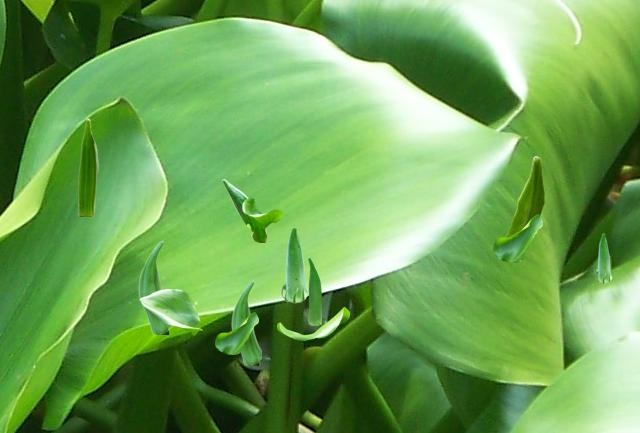okra: (505, 156, 543, 236), (138, 240, 170, 333), (222, 179, 265, 241), (231, 280, 260, 364), (281, 227, 307, 302), (78, 118, 97, 215), (308, 257, 320, 324), (595, 233, 611, 282)
